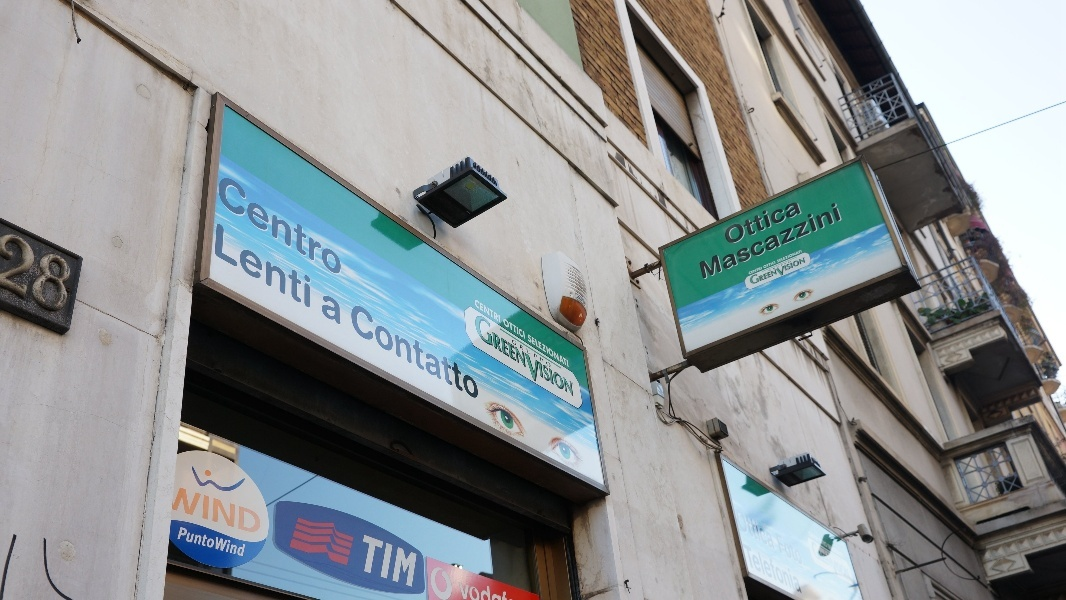text: (225, 170, 240, 281), (241, 170, 256, 281), (257, 170, 272, 281), (273, 170, 288, 281), (289, 170, 304, 281), (305, 170, 320, 281), (321, 170, 336, 281), (353, 300, 368, 401), (369, 300, 384, 401), (385, 300, 400, 401), (401, 300, 416, 401), (417, 300, 432, 401), (433, 300, 448, 401), (449, 300, 464, 401), (465, 300, 479, 401), (481, 312, 496, 403), (497, 312, 512, 403), (513, 312, 528, 403), (529, 312, 544, 403), (545, 312, 560, 403), (1, 229, 16, 319), (17, 229, 32, 319), (33, 229, 48, 319), (49, 229, 64, 319), (225, 222, 240, 310), (241, 222, 256, 310), (257, 222, 272, 310), (273, 222, 288, 310), (289, 222, 304, 310), (561, 312, 575, 403), (705, 202, 720, 281), (721, 202, 736, 281), (737, 202, 752, 281), (753, 202, 768, 281), (769, 202, 784, 281), (785, 202, 800, 281), (801, 202, 816, 281), (817, 202, 832, 281), (65, 229, 75, 319), (737, 509, 752, 568), (753, 509, 768, 568), (769, 509, 784, 568), (785, 509, 800, 568), (369, 534, 384, 589), (385, 534, 400, 589), (401, 534, 416, 589), (753, 542, 768, 595), (769, 542, 784, 595), (785, 542, 800, 595), (833, 202, 843, 281), (193, 486, 208, 538), (209, 486, 224, 538), (225, 486, 240, 538), (241, 486, 256, 538), (737, 196, 752, 246), (753, 196, 768, 246), (769, 196, 784, 246), (785, 196, 800, 246), (722, 196, 736, 246), (180, 486, 192, 538), (217, 222, 224, 310), (305, 222, 312, 310), (529, 334, 544, 368), (545, 334, 560, 368), (193, 526, 208, 558), (209, 526, 224, 558), (225, 526, 240, 558), (743, 542, 752, 595), (337, 170, 341, 281), (323, 293, 336, 326), (753, 257, 768, 285), (769, 257, 784, 285), (785, 257, 800, 285), (817, 531, 832, 559), (699, 202, 704, 281), (481, 299, 496, 324), (181, 526, 192, 558), (833, 531, 844, 559), (561, 334, 570, 368), (513, 318, 526, 340), (363, 534, 368, 589), (257, 486, 262, 538), (465, 583, 480, 600), (481, 583, 496, 600), (801, 509, 805, 568), (785, 249, 800, 264), (222, 170, 224, 281), (503, 318, 512, 340), (497, 583, 508, 600), (478, 312, 480, 403), (769, 260, 784, 272), (810, 531, 816, 559), (241, 526, 246, 558), (801, 196, 804, 246), (801, 257, 806, 285), (337, 293, 341, 326), (475, 299, 480, 324), (776, 249, 784, 264), (748, 257, 752, 285), (801, 542, 803, 595), (513, 339, 528, 346), (458, 583, 464, 600), (351, 300, 352, 401), (497, 299, 501, 324), (753, 266, 763, 276), (547, 361, 560, 368), (785, 260, 792, 272), (769, 261, 777, 269), (520, 344, 528, 351), (417, 534, 418, 589), (534, 353, 544, 358), (748, 266, 752, 276), (763, 261, 768, 269), (801, 249, 803, 264), (541, 357, 544, 362), (529, 348, 531, 355), (527, 348, 528, 355)
